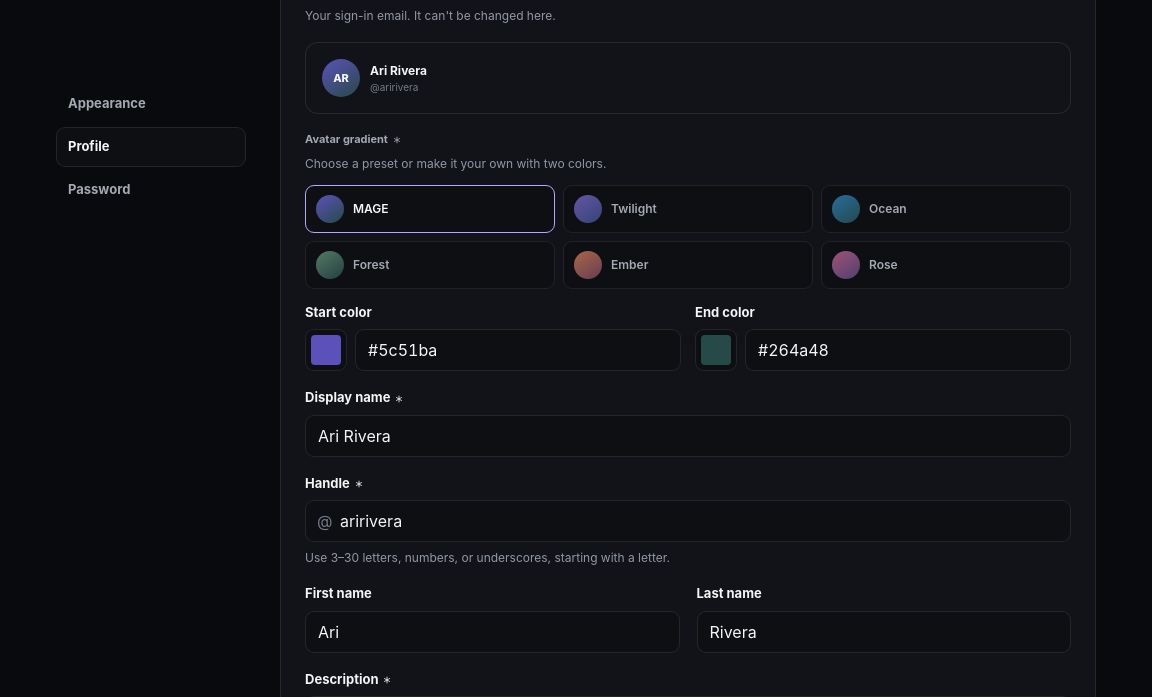
it: Settings avatar gradients › rejects an invalid End color before any request and clears the error when a preset is chosen
(page scrolled)
Replace the text in the field labelled "End color" with "#bad" at (908, 350), box [745,329,1071,371]
(page scrolled)
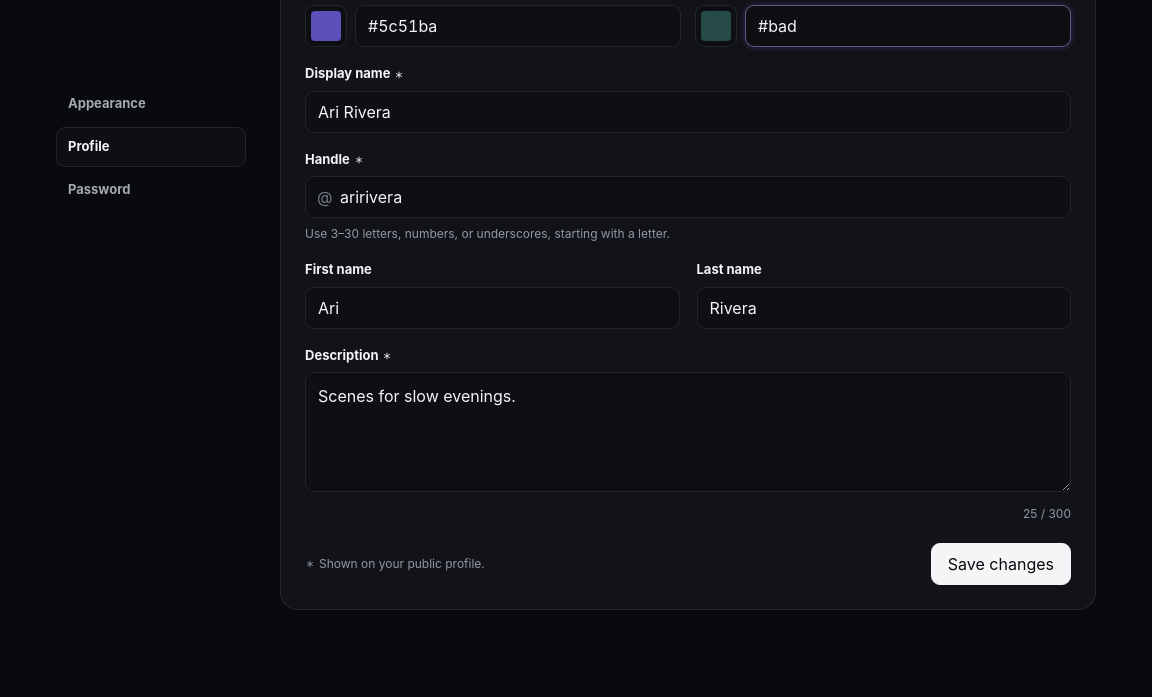
Click the button "Save changes".
click(1001, 564)  # box [931,543,1071,585]
(page scrolled)
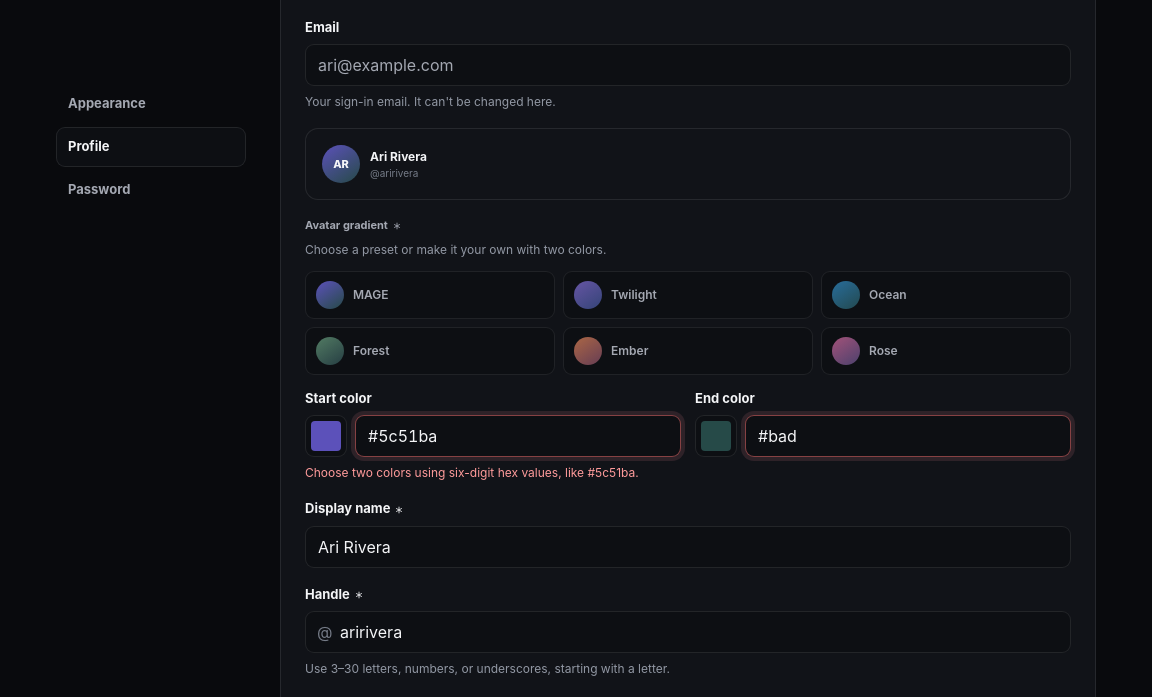
Result: the message reads "Choose two colors using six-digit hex values, like #5c51ba." at [305,465,639,480]
Click the button "Rose".
click(946, 351)  # box [821,327,1071,375]
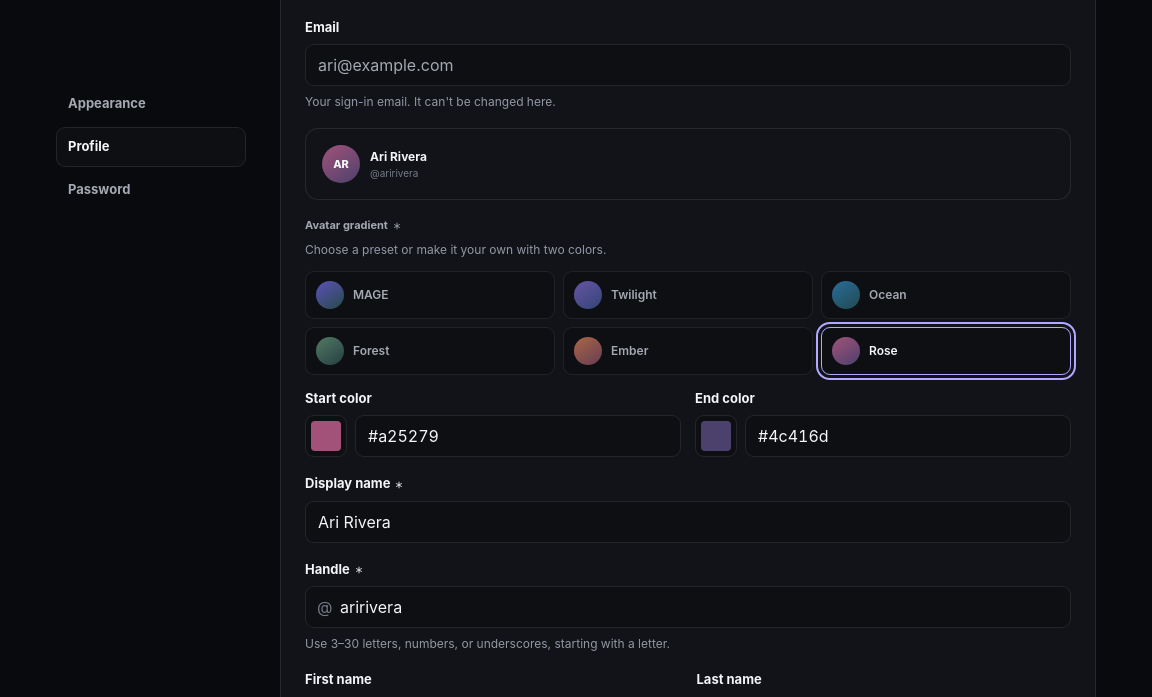
Result: the message "Choose two colors using six-digit hex values, like #5c51ba." is gone
